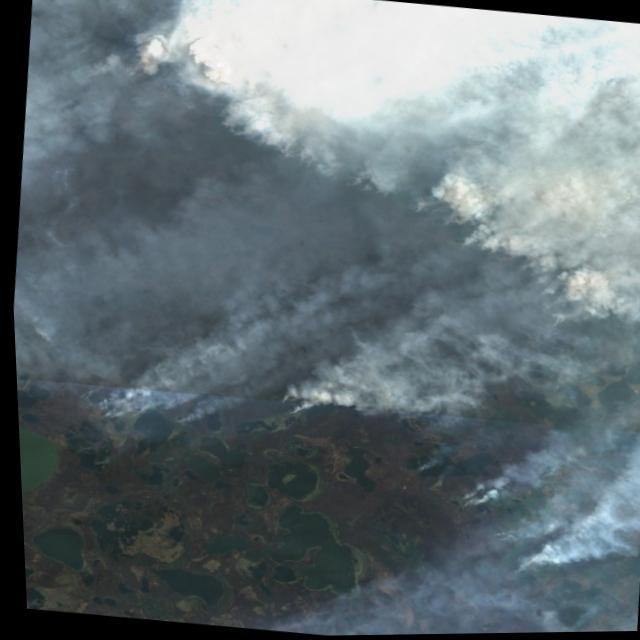fire: (12, 25, 640, 602)
